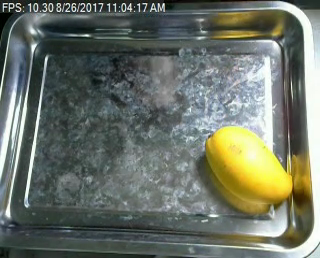Mango: (193, 120, 298, 206)
